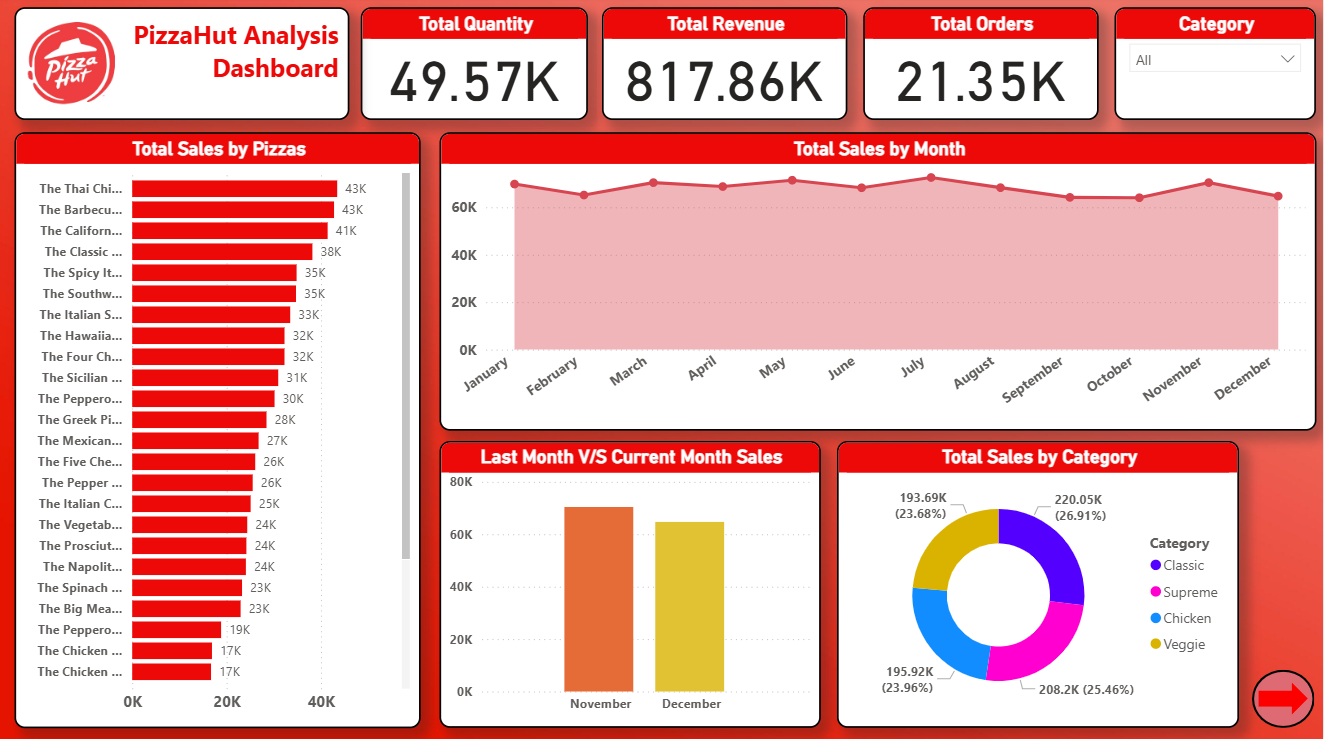

What the dashboard file says about the page in this screenshot:
{"tool":"powerbi","page":{"name":"DashBoard1","canvas":[1280,720],"ordinal":0},"visuals":[{"type":"card","title":"Total Quantity","fields":{"Values":["Sum(order_details.quantity)"]},"box":[351.1,10.9,219.6,108.6],"z":0},{"type":"card","title":"Total Revenue","fields":{"Values":["order_details.Total_Revenue"]},"box":[583.9,10.9,236.5,108.6],"z":1000},{"type":"card","title":"Total Orders","fields":{"Values":["Count(order_details.order_id)"]},"box":[836.1,10.9,226.8,108.6],"z":2000},{"type":"textbox","box":[16.9,10.9,323.3,108.6],"z":3000},{"type":"barChart","title":"Total Sales by Pizzas","fields":{"Category":["pizza_types.name"],"Y":["order_details.Total_Revenue"]},"box":[16.9,131.5,392.1,575.5],"z":4000},{"type":"image","box":[16.9,10.9,109.8,108.6],"z":5000},{"type":"areaChart","title":"Total Sales by Month","fields":{"Y":["order_details.Total_Revenue"],"Category":["Custom_calendar.Date.Variation.Date Hierarchy.Month"]},"box":[426.8,131.7,846.7,288.2],"z":6000},{"type":"slicer","title":"Category","fields":{"Values":["pizza_types.category"]},"box":[1078.6,10.9,194.2,108.6],"z":7000},{"type":"shape","box":[1211.7,650.4,60.4,56.3],"z":8000},{"type":"shape","box":[1217.2,662.8,48,31.6],"z":9000},{"type":"clusteredColumnChart","title":"Last Month V/S Current Month Sales","fields":{"Category":["Custom_calendar.Date.Variation.Date Hierarchy.Month"],"Y":["order_details.Total_Revenue"]},"box":[426.8,429.5,367.8,277.2],"z":10000},{"type":"donutChart","title":"Total Sales by Category","fields":{"Category":["pizza_types.category"],"Y":["order_details.Total_Revenue"]},"box":[811,429.5,388.3,277.2],"z":11000}]}

Visuals, with their boxes in screenshot pixels (x1, y1, x2, y2), scaled from the page's 1280x720 canvas onto the 1324x739 screenshot:
"Total Quantity" card: box=[363, 11, 590, 123]
"Total Revenue" card: box=[604, 11, 849, 123]
"Total Orders" card: box=[865, 11, 1099, 123]
textbox: box=[17, 11, 352, 123]
"Total Sales by Pizzas" barChart: box=[17, 135, 423, 726]
image: box=[17, 11, 131, 123]
"Total Sales by Month" areaChart: box=[441, 135, 1317, 431]
"Category" slicer: box=[1116, 11, 1317, 123]
shape: box=[1253, 668, 1316, 725]
shape: box=[1259, 680, 1309, 713]
"Last Month V/S Current Month Sales" clusteredColumnChart: box=[441, 441, 822, 725]
"Total Sales by Category" donutChart: box=[839, 441, 1241, 725]
